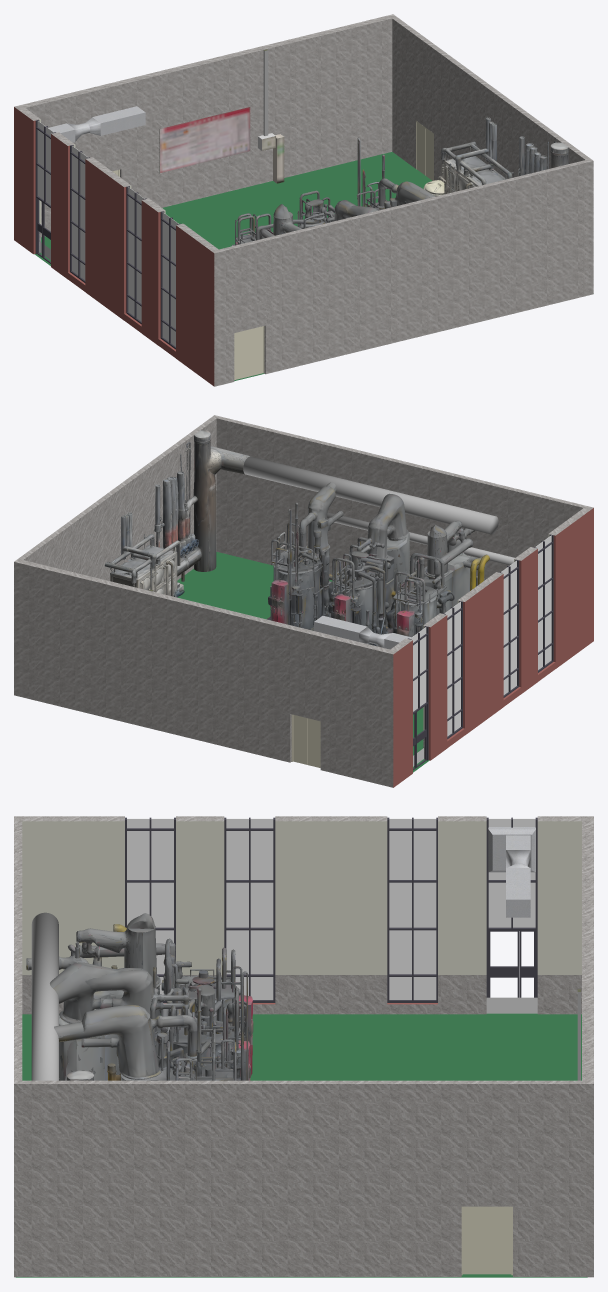
3 views of the same model, one above another, from view 1: azimuth 30°, elevation 25°; view 2: azimuth 150°, elevation 25°; view 3: azimuth 270°, elevation 25° (orthographic). The views are drawn at different scales.
Visible parts, largest first — view 1: Cube, Cube.001, Plane, node_0.001, node_0, Cylinder.002; view 2: Cube, Cube.001, node_0.001, node_0, Cylinder.002; view 3: Cube, Cube.001, node_0.001, Cylinder.002, Cube.007.
Boxes of the visible parts, x1,y1,x2,y2 form: Cube: (14, 14, 593, 386); Cube.001: (14, 50, 433, 386); Plane: (159, 49, 284, 183); node_0.001: (232, 137, 435, 246); node_0: (423, 117, 568, 196); Cylinder.002: (48, 106, 145, 142); Cube: (14, 415, 593, 787); Cube.001: (149, 456, 593, 787); node_0.001: (267, 482, 489, 646); node_0: (105, 430, 249, 597); Cylinder.002: (314, 615, 411, 649); Cube: (14, 816, 593, 1277); Cube.001: (15, 817, 587, 1277); node_0.001: (26, 913, 253, 1080); Cylinder.002: (488, 827, 535, 917); Cube.007: (486, 997, 537, 1013).
Bounding box in the file's own units: 17.95 × 6.17 × 16.39.
Materials: 6 (6 with a texture image).
